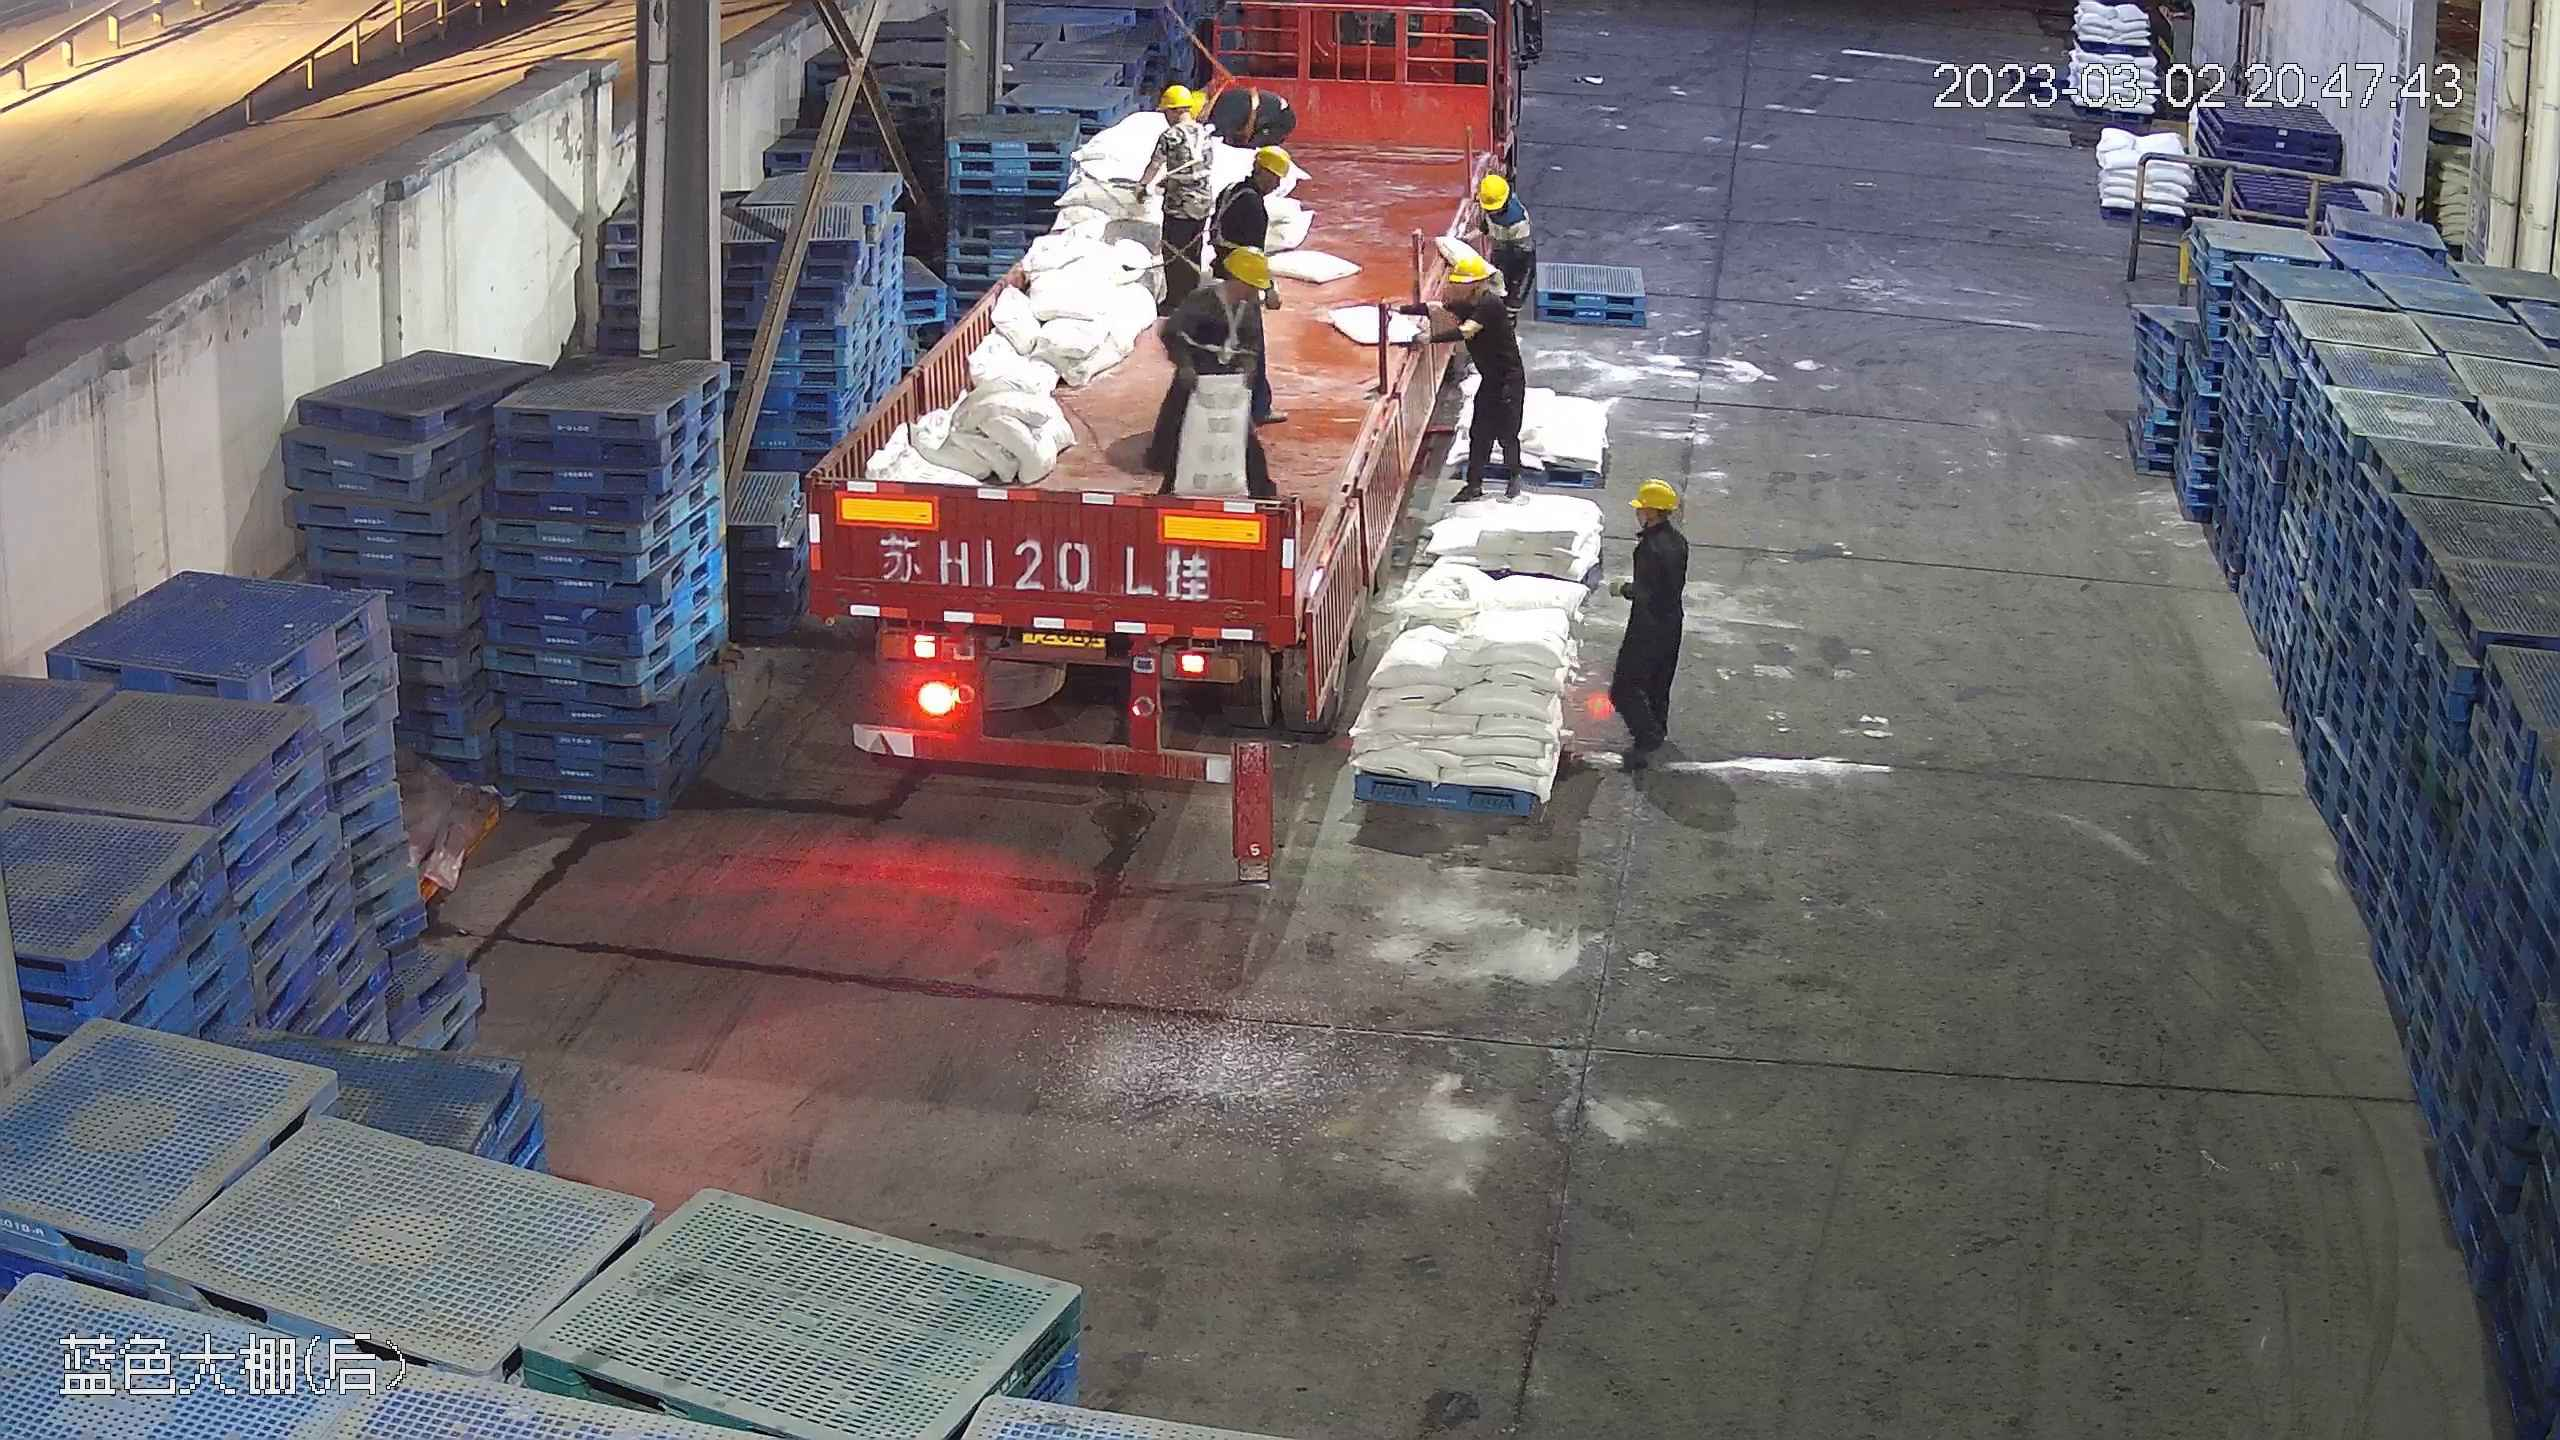belt: (1180, 280, 1262, 369), (1207, 183, 1269, 258), (1152, 129, 1208, 191), (1213, 81, 1270, 129), (1473, 192, 1520, 238)
head: (1175, 242, 1275, 333), (1212, 142, 1298, 224), (1435, 253, 1518, 331), (1627, 477, 1688, 573), (1147, 83, 1214, 150), (1462, 168, 1531, 232)
helmet: (1220, 244, 1273, 292), (1629, 478, 1681, 511), (1252, 144, 1293, 181), (1158, 83, 1198, 120), (1475, 167, 1508, 209), (1449, 254, 1490, 285)
people: (818, 22, 1464, 781), (1142, 241, 1277, 506), (1597, 476, 1688, 773), (1421, 251, 1527, 497), (1138, 86, 1221, 291), (1470, 166, 1536, 324)
truck: (808, 16, 1469, 781)
